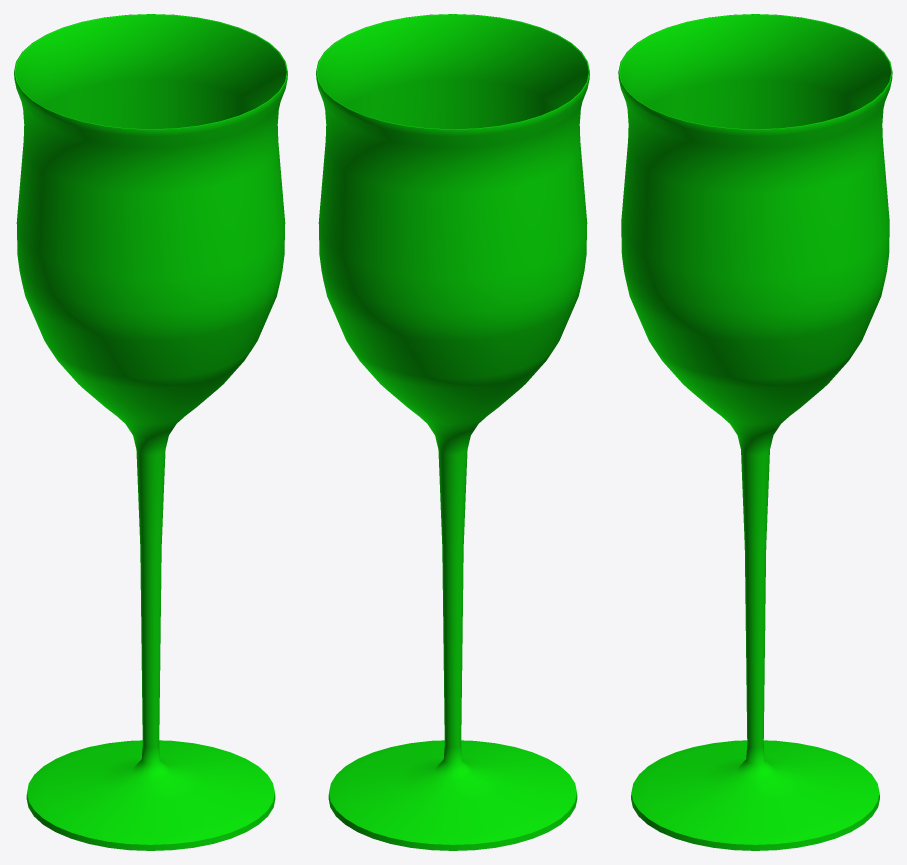
File: Glass5_LOD_1.fbx
3 renders of one model, left to right at view 1: azimuth 30°, elevation 25°; view 2: azimuth 150°, elevation 25°; view 3: azimuth 270°, elevation 25°, orthographic.
Parts seen in each view (by area): view 1: Glass5_LOD_1; view 2: Glass5_LOD_1; view 3: Glass5_LOD_1.
Boxes of the visible parts, box(x1,y1,x2,y2) form: Glass5_LOD_1: box(14, 14, 287, 850); Glass5_LOD_1: box(316, 14, 589, 850); Glass5_LOD_1: box(618, 14, 892, 850).
Size of the model in its own units: 1.55 by 4.56 by 1.55.
